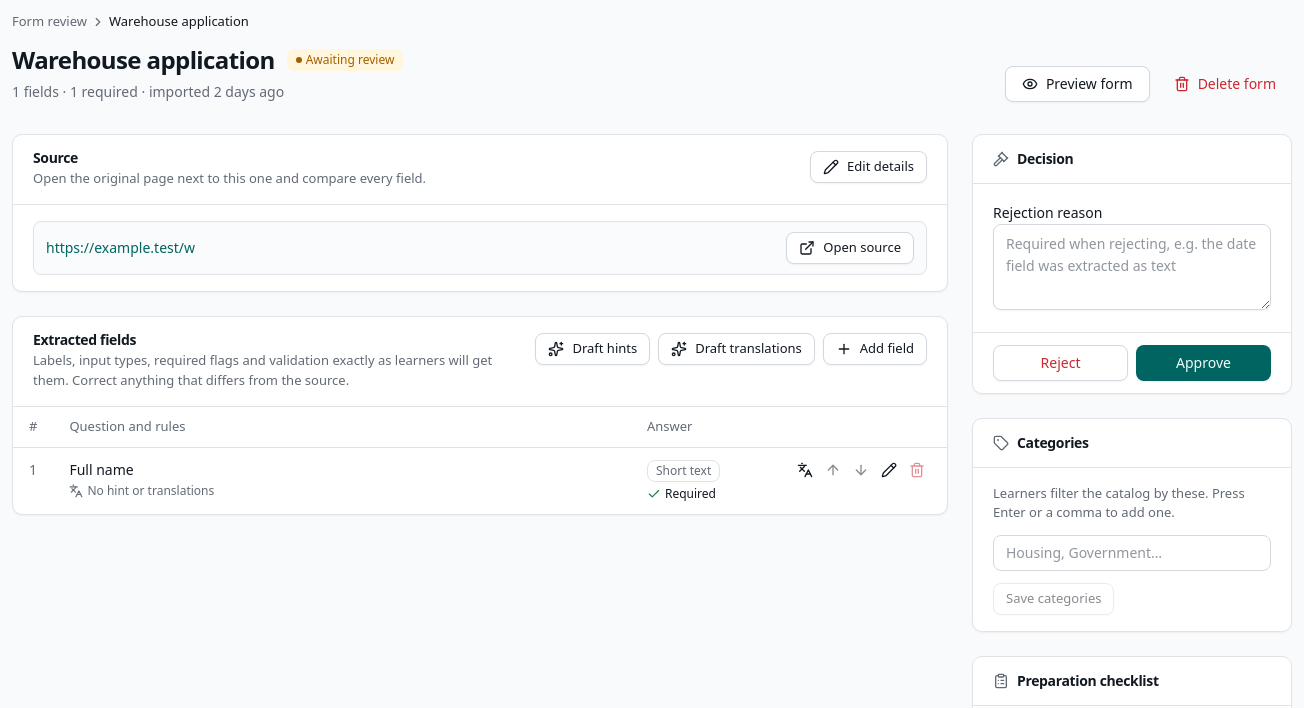
it: AI drafts › explains when the AI services fail, keeping what was drafted
Click the button "Draft hints". click: [593, 349]
box: x1=535 y1=333 x2=650 y2=365
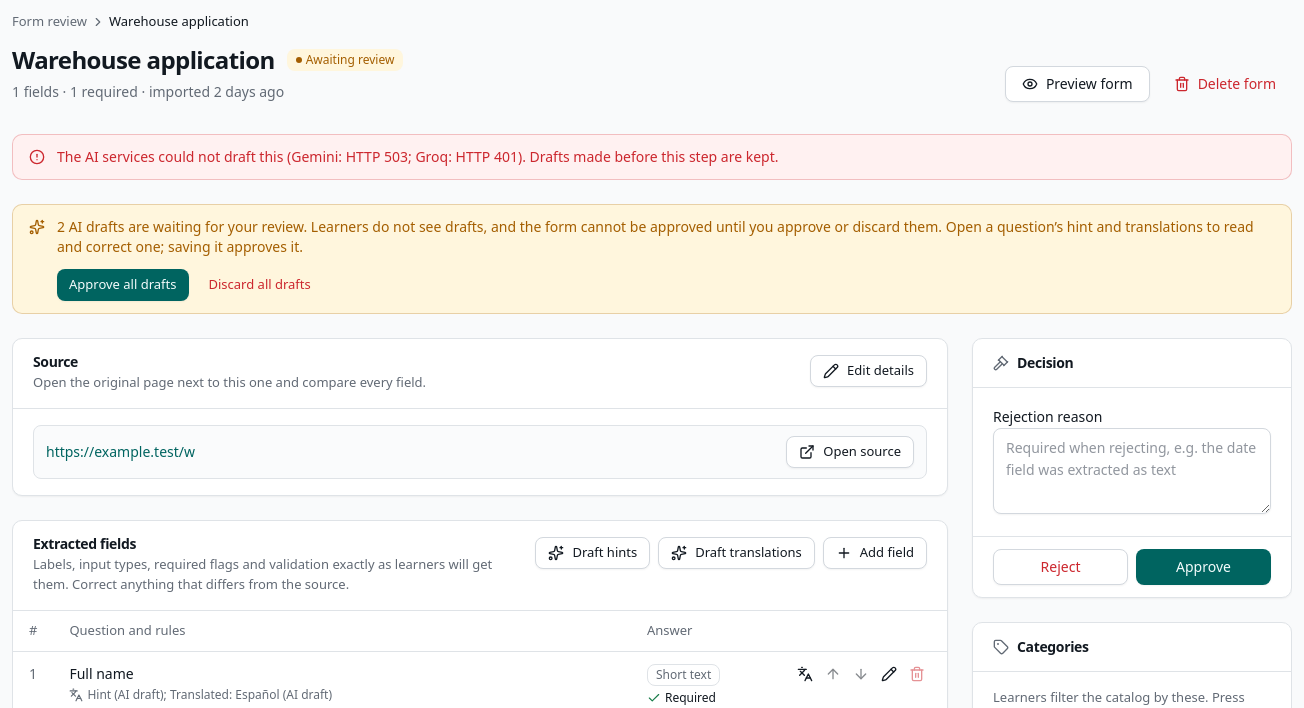
Expected: the 1st message shows "Gemini: HTTP 503; Groq: HTTP 401", x1=57 y1=146 x2=778 y2=166
Expected: the 1st message shows "Drafts made before this step are kept.", x1=57 y1=146 x2=778 y2=166
